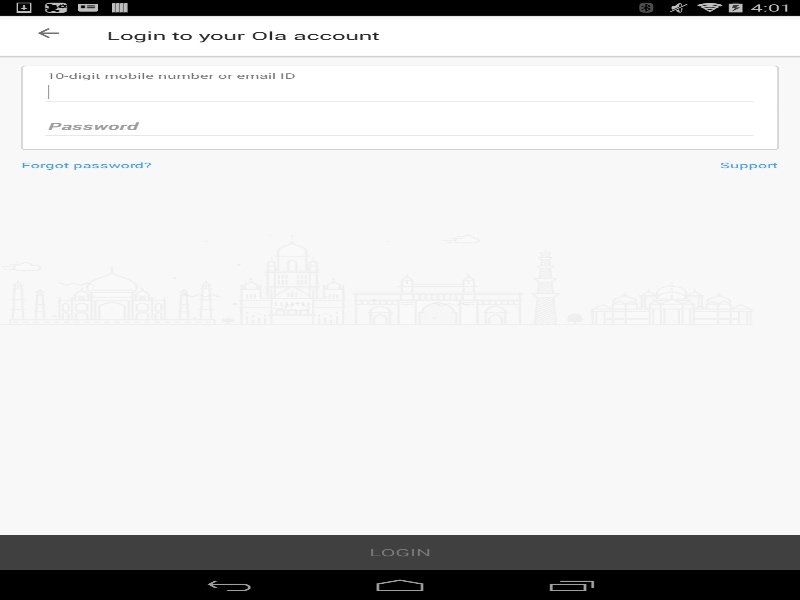Button: (400, 535, 799, 570), (0, 535, 398, 570), (10, 13, 85, 53)
Input: (42, 82, 757, 102), (42, 116, 757, 136)
